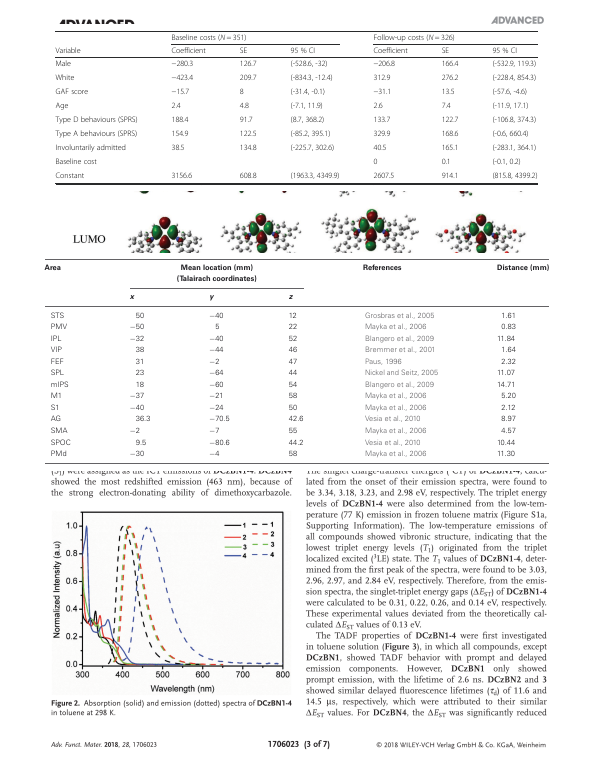borderless: (44, 258, 549, 463), (54, 29, 537, 183)
cell: (176, 264, 258, 284), (54, 115, 138, 125), (54, 129, 138, 139), (372, 33, 456, 42), (54, 143, 127, 153), (171, 33, 247, 42), (364, 369, 439, 378), (364, 347, 436, 356), (364, 312, 435, 321), (364, 335, 435, 344), (364, 381, 435, 390), (364, 404, 427, 413), (364, 427, 427, 436), (364, 450, 427, 459), (364, 416, 421, 425), (364, 439, 421, 448), (364, 324, 427, 332), (364, 393, 427, 401), (290, 171, 340, 181), (491, 171, 538, 181), (491, 59, 537, 69), (491, 73, 537, 83), (491, 115, 537, 125), (491, 143, 537, 153), (290, 143, 335, 153), (54, 157, 98, 167), (496, 264, 550, 272), (290, 73, 333, 83), (290, 129, 331, 139), (290, 59, 328, 69), (491, 101, 529, 111), (491, 129, 529, 139), (372, 46, 409, 56), (491, 87, 528, 97), (171, 46, 207, 56), (290, 87, 326, 97), (364, 358, 403, 367), (54, 87, 89, 97), (290, 115, 325, 125), (290, 101, 324, 111), (362, 264, 403, 272), (491, 157, 522, 167), (54, 171, 85, 181), (54, 46, 81, 56), (491, 46, 518, 56), (290, 46, 316, 56), (372, 59, 396, 69), (171, 59, 194, 69), (171, 73, 194, 83), (372, 171, 395, 181), (171, 171, 193, 181), (54, 73, 75, 83), (208, 416, 231, 425), (208, 439, 231, 448), (372, 87, 392, 97), (50, 439, 72, 448), (372, 73, 391, 83), (171, 87, 190, 97), (372, 115, 391, 125), (372, 129, 391, 139), (54, 59, 72, 69), (239, 59, 257, 69), (441, 59, 459, 69), (239, 73, 257, 83), (441, 73, 459, 83), (171, 115, 189, 125), (441, 115, 459, 125), (171, 129, 189, 139), (239, 129, 257, 139), (441, 129, 459, 139), (239, 143, 257, 153), (441, 143, 459, 153), (239, 171, 257, 181), (441, 171, 459, 181), (496, 335, 516, 344), (496, 369, 516, 378), (50, 381, 70, 390), (496, 381, 516, 390), (496, 439, 516, 448), (496, 450, 516, 459), (50, 427, 68, 436), (50, 450, 68, 459), (208, 312, 225, 321), (500, 312, 517, 321), (208, 335, 225, 344), (208, 347, 225, 356), (500, 347, 517, 356), (500, 358, 517, 367), (208, 369, 225, 378), (208, 381, 225, 390), (208, 393, 225, 402), (208, 404, 225, 413), (500, 416, 517, 425), (500, 427, 517, 436), (43, 264, 62, 272), (54, 101, 69, 111), (239, 115, 254, 125), (372, 143, 387, 153), (50, 324, 68, 332), (129, 335, 145, 344), (129, 393, 145, 402), (129, 404, 145, 413), (500, 404, 516, 413), (135, 416, 151, 425), (288, 416, 304, 425), (288, 439, 304, 448), (129, 450, 145, 459), (441, 87, 455, 97), (171, 143, 185, 153), (500, 324, 517, 332), (500, 393, 517, 401), (50, 312, 65, 321), (50, 358, 65, 367), (50, 369, 65, 378), (129, 324, 145, 332), (50, 335, 63, 344), (50, 347, 63, 356), (50, 393, 63, 402), (171, 101, 182, 111), (239, 101, 250, 111), (372, 101, 383, 111), (441, 101, 452, 111), (441, 157, 452, 167), (208, 358, 220, 367), (50, 416, 62, 425), (129, 427, 141, 436), (208, 427, 220, 436), (135, 439, 147, 448), (208, 450, 220, 459), (239, 46, 248, 56), (441, 46, 450, 56), (135, 312, 145, 321), (288, 312, 298, 321), (288, 335, 298, 344), (135, 347, 145, 356), (288, 347, 298, 356), (135, 358, 145, 367), (288, 358, 298, 367), (135, 369, 145, 378), (288, 369, 298, 378), (135, 381, 145, 390), (288, 381, 298, 390), (288, 393, 298, 402), (50, 404, 60, 413), (288, 404, 298, 413), (288, 427, 298, 436), (288, 450, 298, 459), (288, 324, 298, 332), (239, 87, 245, 97), (372, 157, 378, 167), (214, 324, 220, 332), (129, 295, 135, 302), (208, 295, 214, 302), (288, 295, 293, 302)
